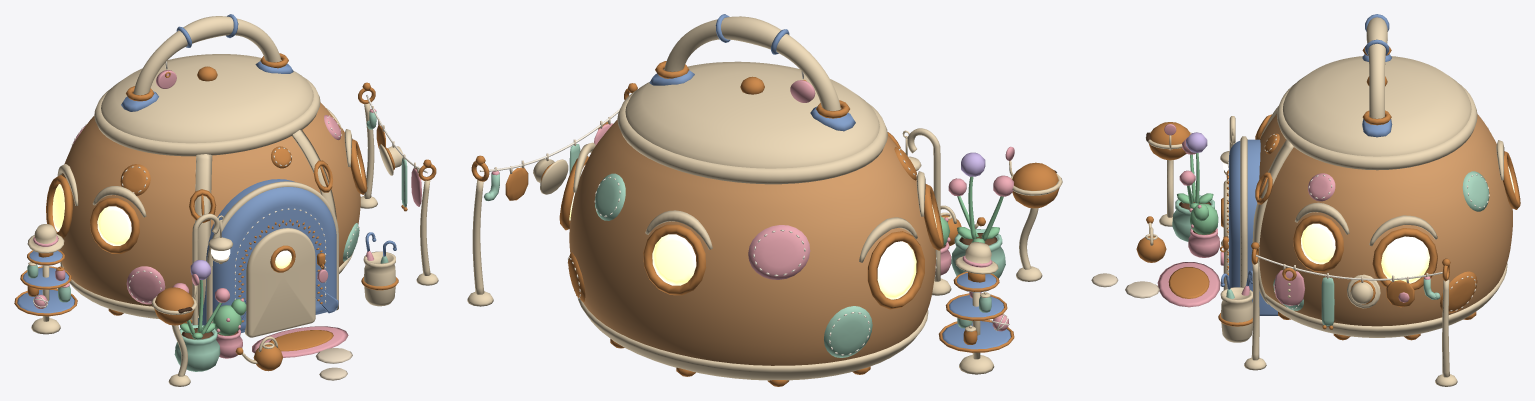
The model's file is house_08_0807.fbx.
The picture shows the model from 3 angles, left to right: view 1: azimuth 30°, elevation 25°; view 2: azimuth 150°, elevation 25°; view 3: azimuth 270°, elevation 25°; orthographic projection. The views are drawn at different scales.
Visible parts, largest first — view 1: House_Body_Bag, House_Lid, Entrance_Pocket, Entrance_Door, House_RimPiping, Roof_Handle, Window_Grommets, Prop_RoundShelf, Wall_Straps, Entrance_Mat, Prop_Clothesline_Posts, Window_Glass (+25 smaller); view 2: House_Body_Bag, House_Lid, Window_Grommets, House_RimPiping, House_BaseTrim, Roof_Handle, Prop_RoundShelf, Window_Glass, Wall_Patches_Mint, Wall_Patches_Pink, Window_Eyelids, Prop_Laundry (+11 smaller); view 3: House_Body_Bag, House_Lid, Prop_Laundry, House_RimPiping, Entrance_Pocket, Window_Grommets, Window_Glass, House_BaseTrim, Entrance_Mat, Prop_Clothesline_Posts, Roof_Handle, Prop_UmbrellaStand (+19 smaller).
Boxes of the visible parts, x1,y1,x2,y2 form: House_Body_Bag: (59,102,360,306); House_Lid: (101,54,313,143); Entrance_Pocket: (191,179,338,332); Entrance_Door: (245,228,315,337); House_RimPiping: (94,77,320,156); Roof_Handle: (133,16,281,95); Window_Grommets: (46,128,367,253); Prop_RoundShelf: (14,250,77,334); Wall_Straps: (195,130,336,317); Entrance_Mat: (252,326,348,357); Prop_Clothesline_Posts: (360,103,438,285); Window_Glass: (52,155,361,245); House_Body_Bag: (569,120,935,365); House_Lid: (625,61,879,168); Window_Grommets: (559,156,943,309); House_RimPiping: (617,90,887,184); House_BaseTrim: (577,297,928,380); Roof_Handle: (664,16,840,110); Prop_RoundShelf: (938,272,1014,374); Window_Glass: (569,165,936,299); Wall_Patches_Mint: (595,173,872,357); Wall_Patches_Pink: (748,225,935,279); Window_Eyelids: (573,142,925,262); Prop_Laundry: (484,122,612,200); House_Body_Bag: (1259,114,1512,326); House_Lid: (1283,56,1471,156); Prop_Laundry: (1274,267,1440,329); House_RimPiping: (1277,84,1477,170); Entrance_Pocket: (1229,139,1278,315); Window_Grommets: (1293,151,1520,290); Window_Glass: (1301,166,1514,283); House_BaseTrim: (1265,263,1507,337); Entrance_Mat: (1157,262,1220,307); Prop_Clothesline_Posts: (1244,263,1457,386); Roof_Handle: (1366,17,1387,118); Prop_UmbrellaStand: (1218,287,1252,342).
Bounding box in the file's own units: 6.32 × 3.85 × 5.71.
